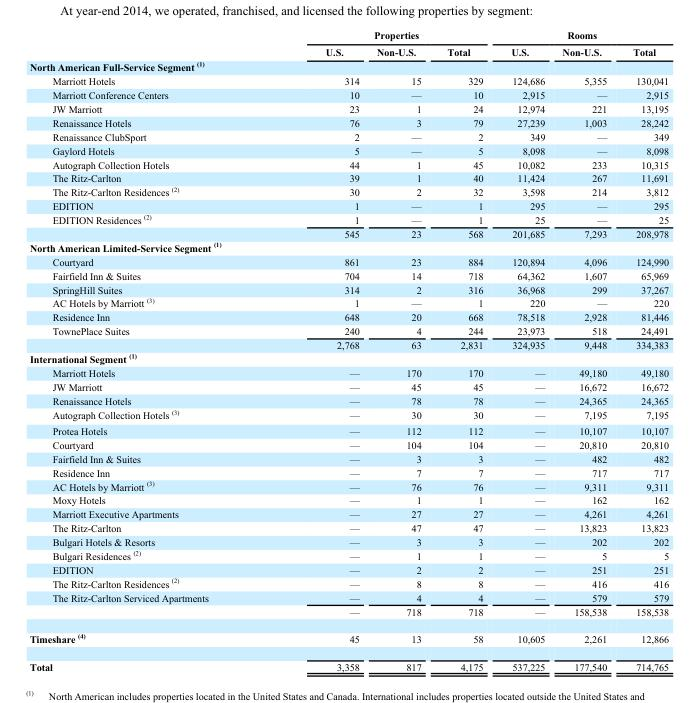table: (28, 29, 668, 672)
table column: (28, 29, 266, 672), (266, 29, 367, 672), (367, 29, 433, 672), (553, 29, 619, 672), (433, 29, 496, 672), (496, 29, 553, 672), (619, 29, 668, 672)
table column header: (28, 29, 668, 58)
table projected row header: (28, 58, 668, 73), (28, 239, 668, 254), (28, 350, 668, 365)
table row: (28, 624, 668, 652), (28, 604, 668, 624), (28, 652, 668, 672), (28, 406, 668, 422), (28, 43, 668, 58), (28, 58, 668, 73), (28, 239, 668, 254), (28, 350, 668, 365), (28, 422, 668, 437), (28, 478, 668, 493), (28, 547, 668, 562), (28, 575, 668, 590), (28, 29, 668, 43), (28, 73, 668, 87), (28, 87, 668, 101), (28, 101, 668, 115), (28, 115, 668, 129), (28, 129, 668, 143), (28, 143, 668, 157), (28, 157, 668, 171), (28, 184, 668, 198), (28, 198, 668, 212), (28, 212, 668, 226), (28, 254, 668, 268), (28, 268, 668, 282), (28, 295, 668, 309), (28, 309, 668, 323), (28, 323, 668, 337), (28, 365, 668, 379), (28, 379, 668, 393), (28, 437, 668, 451), (28, 451, 668, 465), (28, 506, 668, 520), (28, 520, 668, 534), (28, 590, 668, 604), (28, 171, 668, 184), (28, 226, 668, 239), (28, 282, 668, 295), (28, 337, 668, 350), (28, 393, 668, 406), (28, 465, 668, 478), (28, 493, 668, 506), (28, 534, 668, 547), (28, 562, 668, 575)
table spanning cell: (266, 29, 496, 43), (496, 29, 668, 43)
